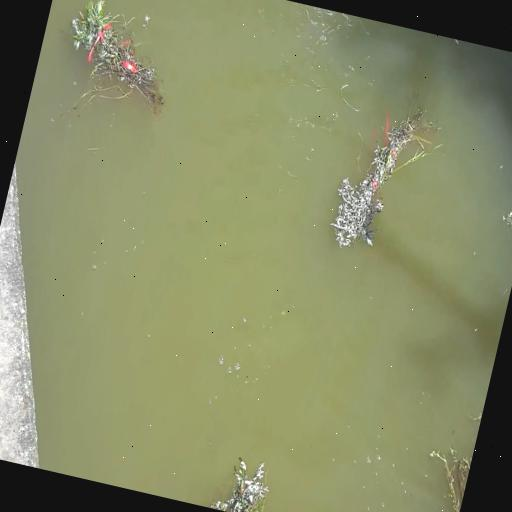twig: (326, 84, 452, 264), (54, 0, 186, 125)
